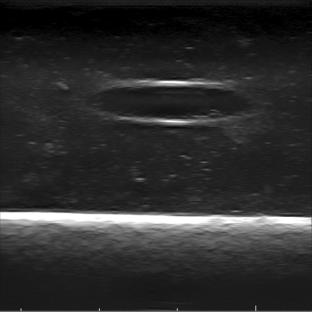vessel: (91, 79, 257, 126)
